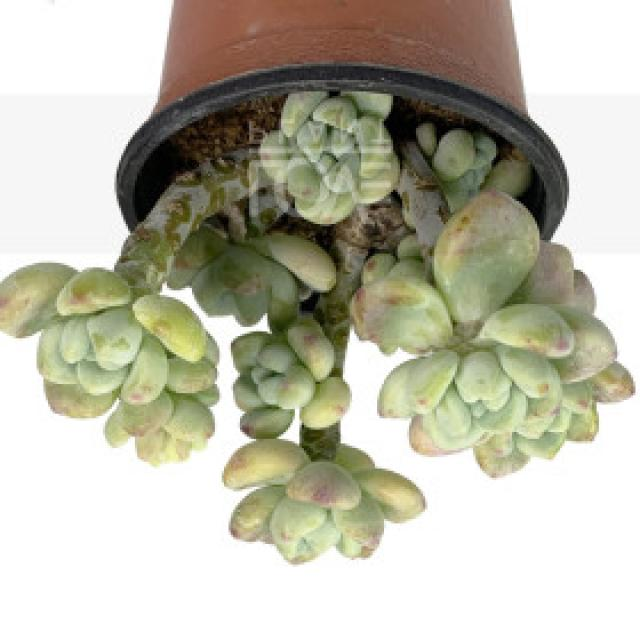LumiRose: (351, 191, 634, 478), (0, 264, 205, 436), (224, 439, 425, 565), (260, 92, 399, 225), (168, 227, 336, 330), (106, 333, 218, 466), (231, 318, 349, 438)
